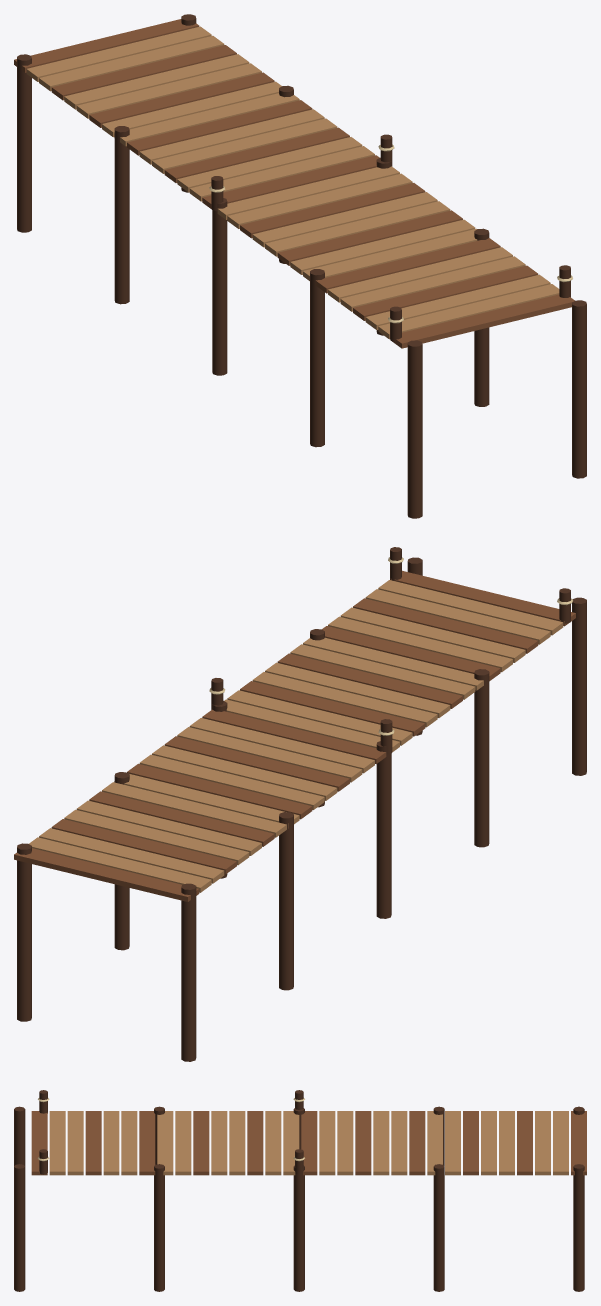
Rendered from dock.glb.
The picture shows the model from 3 angles, top to bottom: view 1: azimuth 30°, elevation 25°; view 2: azimuth 150°, elevation 25°; view 3: azimuth 270°, elevation 25°; orthographic projection. The views are drawn at different scales.
Parts seen in each view (by area): view 1: Dock; view 2: Dock; view 3: Dock.
Part boxes in pixels (x1=…): Dock: x1=14, y1=14, x2=586, y2=518; Dock: x1=14, y1=547, x2=586, y2=1061; Dock: x1=14, y1=1090, x2=586, y2=1291.
Size of what is drawn, in the model's own units: 3.8 by 3.85 by 14.34.
